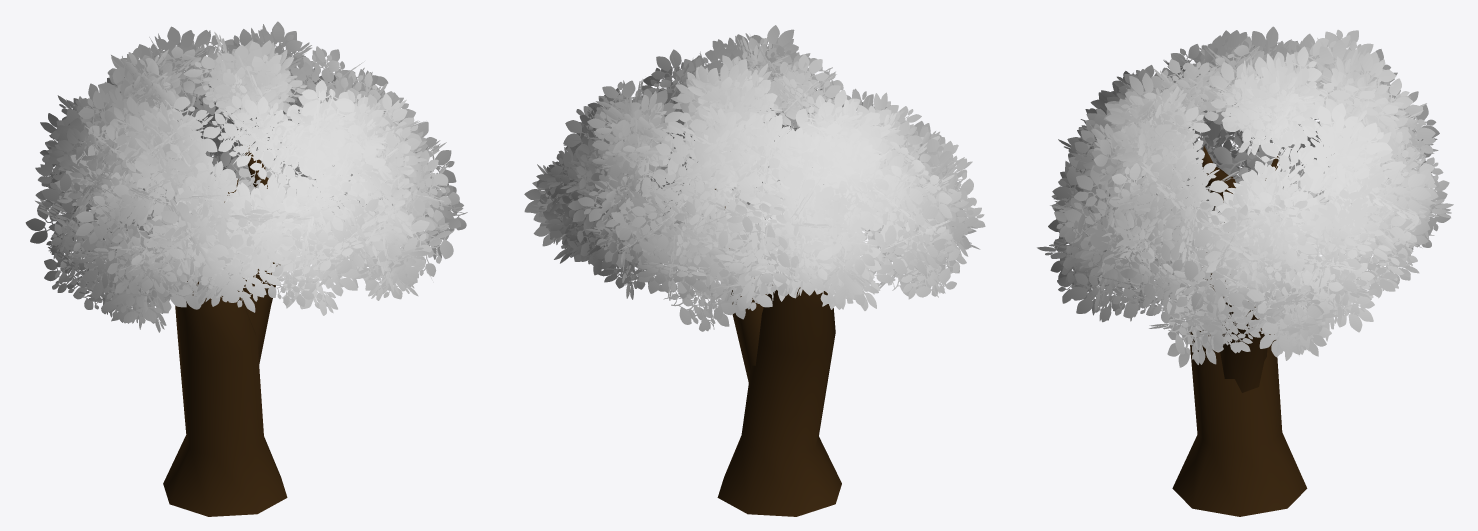
The model's file is Tree6.fbx.
The picture shows the model from 3 angles, left to right: view 1: azimuth 30°, elevation 25°; view 2: azimuth 150°, elevation 25°; view 3: azimuth 270°, elevation 25°; orthographic projection. The views are drawn at different scales.
Visible parts, largest first — view 1: Leaves6_LOD_0, Trunk6_LOD_0; view 2: Leaves6_LOD_0, Trunk6_LOD_0; view 3: Leaves6_LOD_0, Trunk6_LOD_0.
Part boxes in pixels (x1,y1,x2,y2): Leaves6_LOD_0: (25, 21, 467, 332); Trunk6_LOD_0: (163, 129, 287, 516); Leaves6_LOD_0: (524, 25, 985, 331); Trunk6_LOD_0: (715, 189, 841, 516); Leaves6_LOD_0: (1037, 26, 1453, 367); Trunk6_LOD_0: (1172, 146, 1307, 516).
Size of what is drawn, in the model's own units: 834 by 822 by 710.
